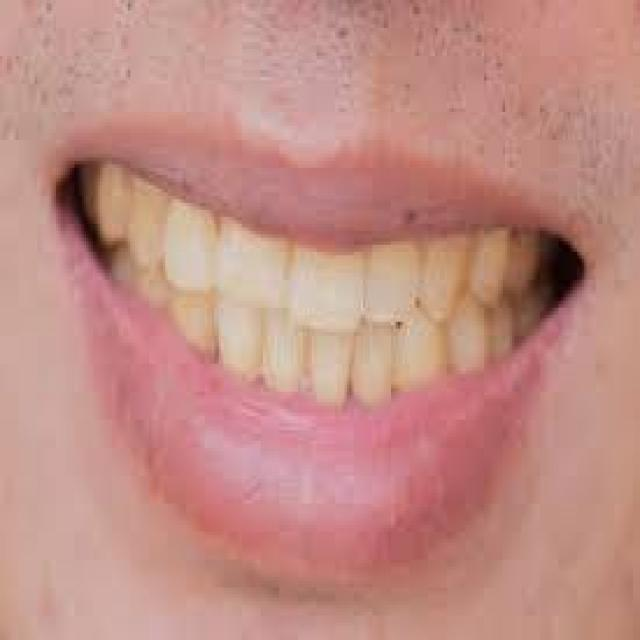tooth: (293, 252, 361, 329), (226, 231, 284, 308), (168, 206, 216, 287), (421, 231, 463, 315), (368, 248, 417, 318), (470, 227, 510, 301), (266, 332, 302, 406), (312, 339, 351, 402), (98, 161, 128, 234), (226, 322, 260, 384), (396, 332, 444, 374), (182, 297, 216, 353), (135, 192, 161, 262), (361, 343, 393, 395), (452, 325, 484, 374), (517, 234, 542, 284), (133, 270, 165, 304), (79, 165, 93, 228), (491, 315, 514, 353), (521, 297, 538, 329), (109, 252, 126, 280)
